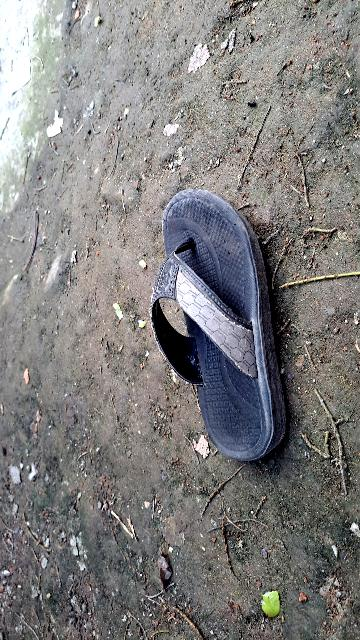sandal: (154, 178, 308, 466)
